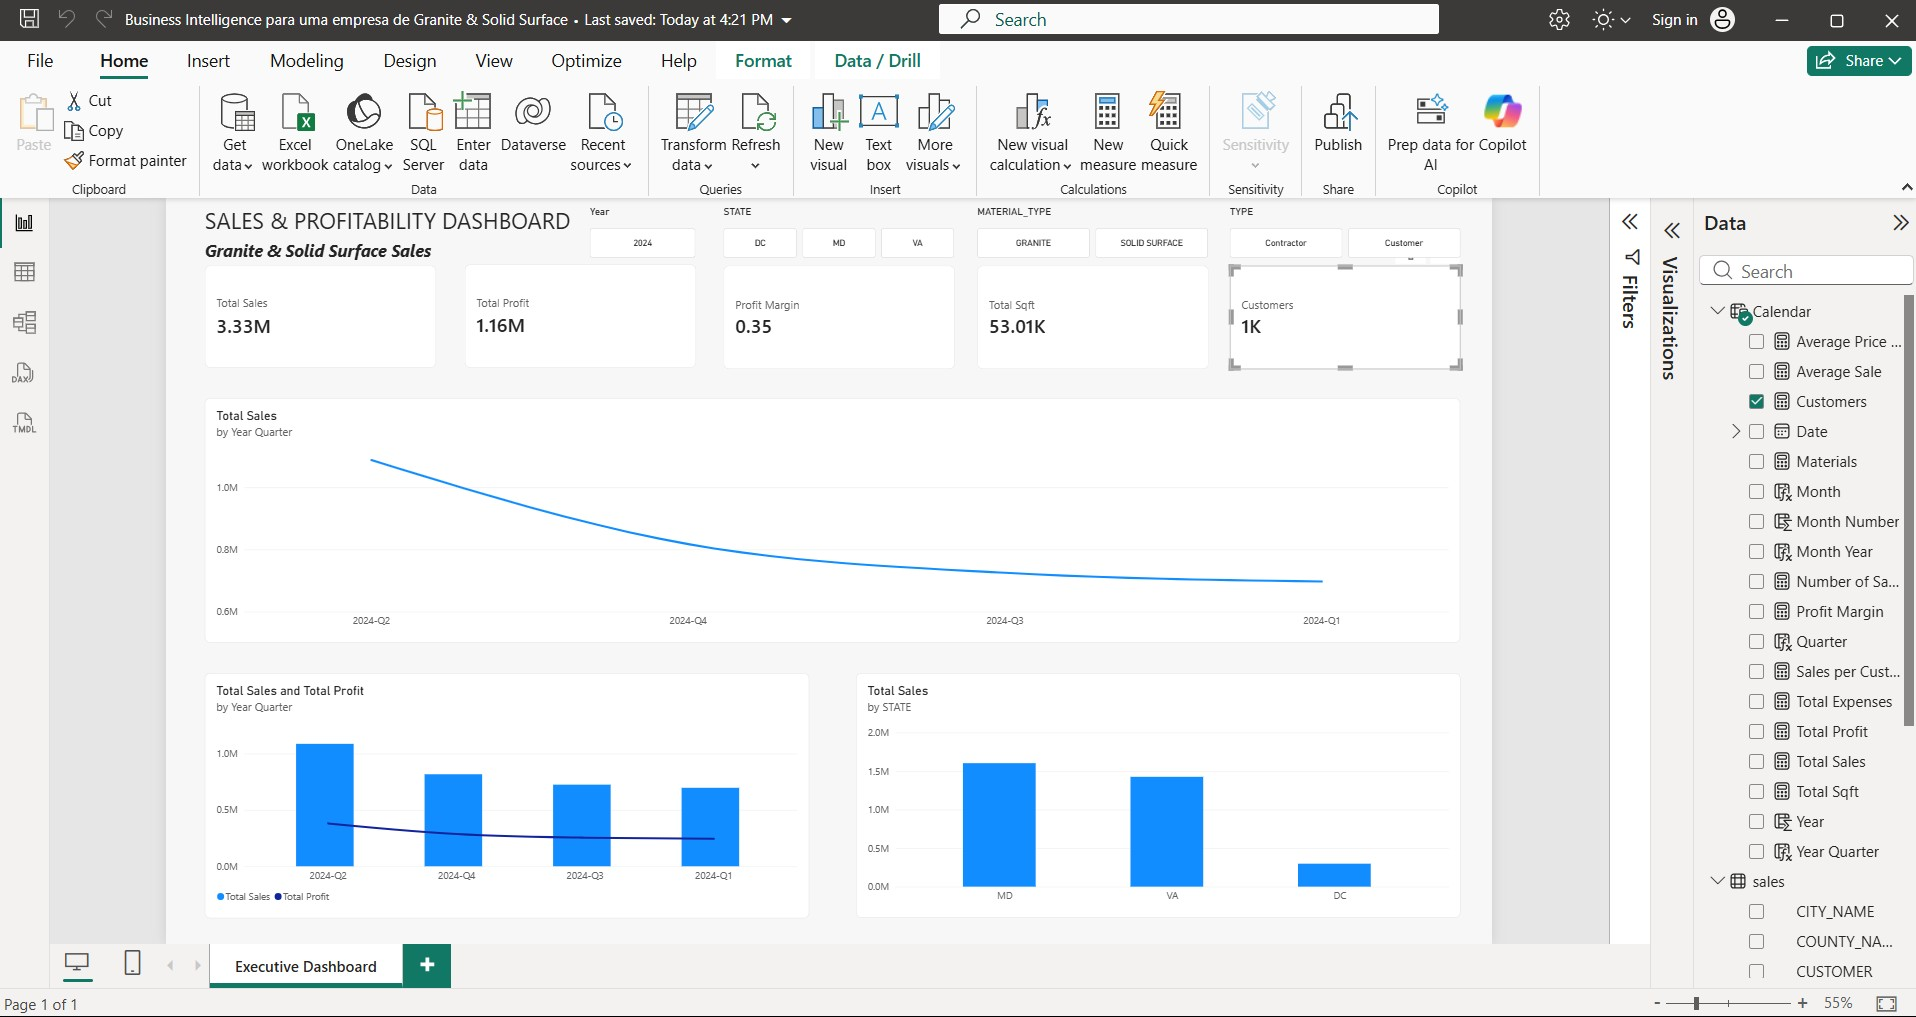

This screenshot's page, from the dashboard's own definition file:
{"tool":"powerbi","page":{"name":"Executive Dashboard","canvas":[1920,1080],"ordinal":0},"visuals":[{"type":"textbox","box":[10,290,280,280],"z":0},{"type":"textbox","box":[56.9,11.7,710.5,86.1],"z":1000},{"type":"cardVisual","fields":{"Data":["Calendar.Total Sales"]},"box":[56.9,97.8,335.6,148.8],"z":2000},{"type":"cardVisual","fields":{"Data":["Calendar.Total Profit"]},"box":[431.9,96.3,335.6,150.3],"z":3000},{"type":"cardVisual","fields":{"Data":["Calendar.Profit Margin"]},"box":[806.8,97.8,335.6,150.3],"z":4000},{"type":"cardVisual","fields":{"Data":["Calendar.Total Sqft"]},"box":[1174.5,97.8,335.6,150.3],"z":5000},{"type":"cardVisual","fields":{"Data":["Calendar.Customers"]},"box":[1539.2,97.8,335.6,150.3],"z":6000},{"type":"lineChart","fields":{"Category":["Calendar.Year Quarter"],"Y":["Calendar.Total Sales"]},"box":[56.9,290.3,1817.9,354.5],"z":7000},{"type":"clusteredColumnChart","fields":{"Category":["sales.STATE"],"Y":["Calendar.Total Sales"]},"box":[999.4,687.2,875.4,354.5],"z":7001},{"type":"textbox","box":[56.9,59.8,471.2,36.5],"z":7002},{"type":"lineClusteredColumnComboChart","fields":{"Category":["Calendar.Year Quarter"],"Y":["Calendar.Total Sales"],"Y2":["Calendar.Total Profit"]},"box":[56.9,687.2,875,355],"z":7003},{"type":"advancedSlicerVisual","fields":{"Values":["sales.STATE"]},"box":[806.8,11.7,335.6,75.9],"z":7004},{"type":"advancedSlicerVisual","fields":{"Values":["Calendar.Year"]},"box":[614.2,11.7,153.2,75.9],"z":7005},{"type":"advancedSlicerVisual","fields":{"Values":["sales.MATERIAL_TYPE"]},"box":[1174.5,11.7,335.6,75.9],"z":7006},{"type":"advancedSlicerVisual","fields":{"Values":["sales.TYPE"]},"box":[1539.2,11.7,335.6,75.9],"z":7007}]}

Visuals, with their boxes on the page's 1920x1080 design canvas (x1, y1, x2, y2). These are canvas units, not pixel positions in the 1916x1017 screenshot, which may show the page scaled, cropped or inside an application window:
textbox: {"x1": 10, "y1": 290, "x2": 290, "y2": 570}
textbox: {"x1": 57, "y1": 12, "x2": 767, "y2": 98}
cardVisual - Calendar.Total Sales: {"x1": 57, "y1": 98, "x2": 392, "y2": 247}
cardVisual - Calendar.Total Profit: {"x1": 432, "y1": 96, "x2": 768, "y2": 247}
cardVisual - Calendar.Profit Margin: {"x1": 807, "y1": 98, "x2": 1142, "y2": 248}
cardVisual - Calendar.Total Sqft: {"x1": 1174, "y1": 98, "x2": 1510, "y2": 248}
cardVisual - Calendar.Customers: {"x1": 1539, "y1": 98, "x2": 1875, "y2": 248}
lineChart - Calendar.Year Quarter x Calendar.Total Sales: {"x1": 57, "y1": 290, "x2": 1875, "y2": 645}
clusteredColumnChart - sales.STATE x Calendar.Total Sales: {"x1": 999, "y1": 687, "x2": 1875, "y2": 1042}
textbox: {"x1": 57, "y1": 60, "x2": 528, "y2": 96}
lineClusteredColumnComboChart - Calendar.Year Quarter x Calendar.Total Sales: {"x1": 57, "y1": 687, "x2": 932, "y2": 1042}
advancedSlicerVisual - sales.STATE: {"x1": 807, "y1": 12, "x2": 1142, "y2": 88}
advancedSlicerVisual - Calendar.Year: {"x1": 614, "y1": 12, "x2": 767, "y2": 88}
advancedSlicerVisual - sales.MATERIAL_TYPE: {"x1": 1174, "y1": 12, "x2": 1510, "y2": 88}
advancedSlicerVisual - sales.TYPE: {"x1": 1539, "y1": 12, "x2": 1875, "y2": 88}
